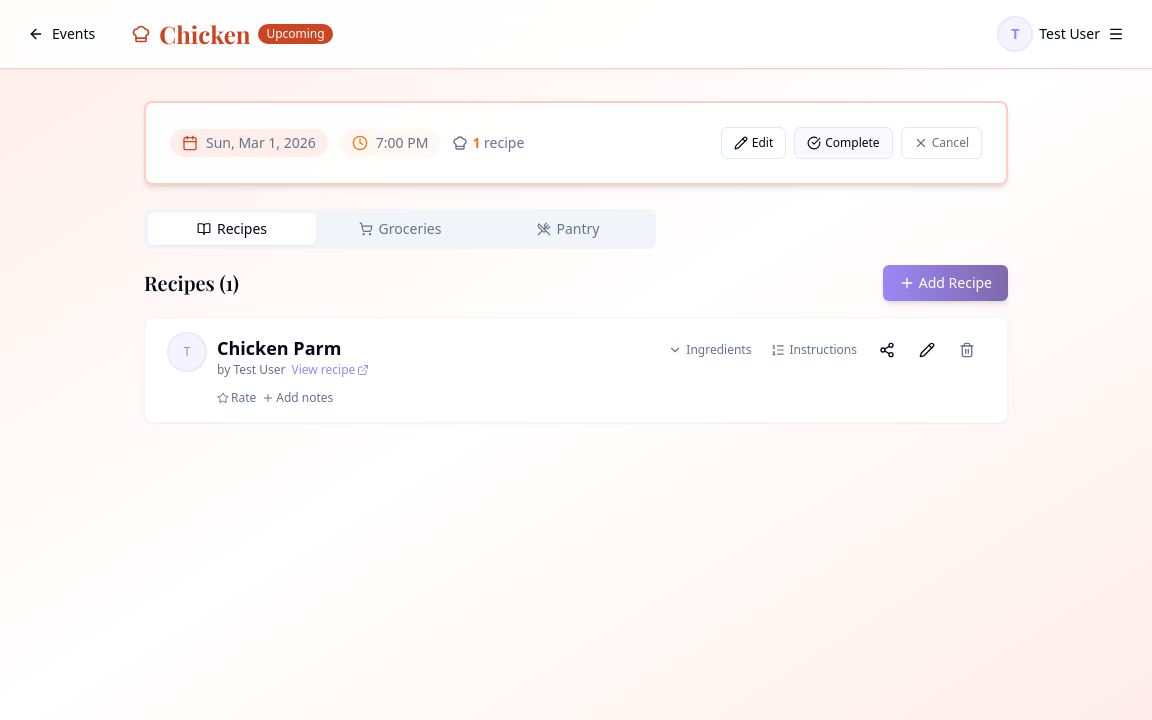
it: EventDetailPage › handles isValidUrl correctly
The width and height of the screenshot is (1152, 720).
Expected: the heading "Chicken" is shown, [159,18,250,50]
Note: Open add recipe dialog
Click the button "Add Recipe". click: (945, 283)
box: [883,265,1008,301]
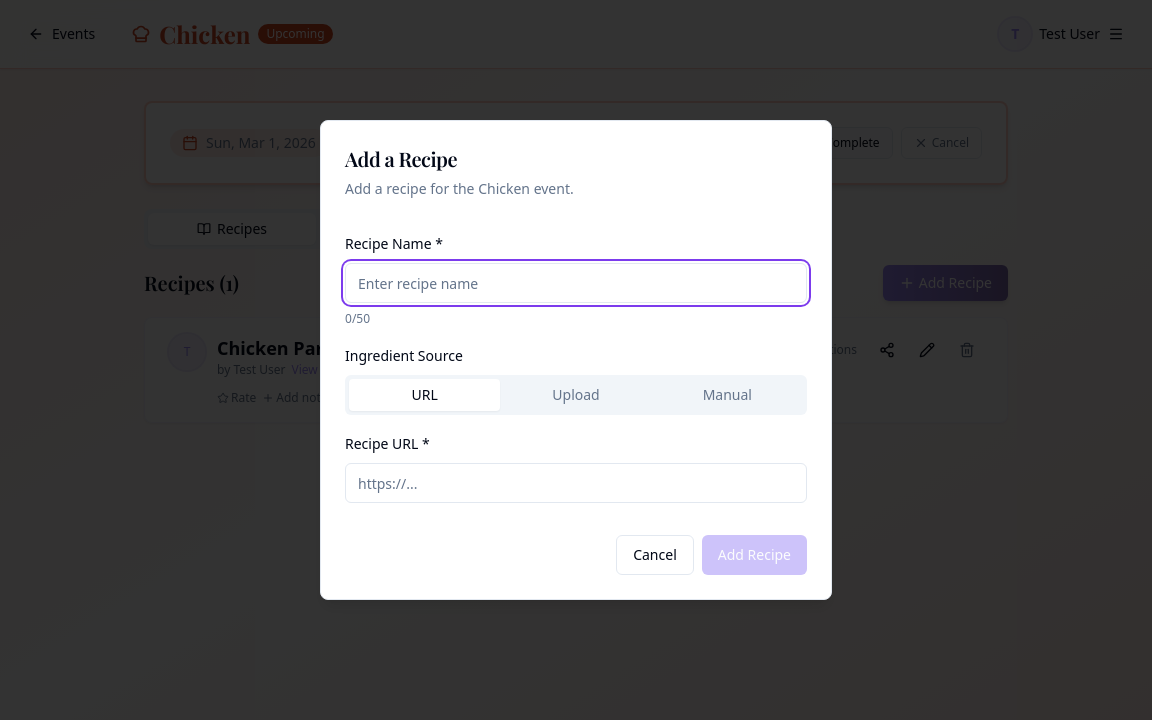
Result: the heading "Add a Recipe" is shown at [345,145,457,172]
Note: URL validation is shown for invalid URL
Type "not-a-url" into the field with placeholder "https://...". click: (576, 483)
box: [345,463,807,503]
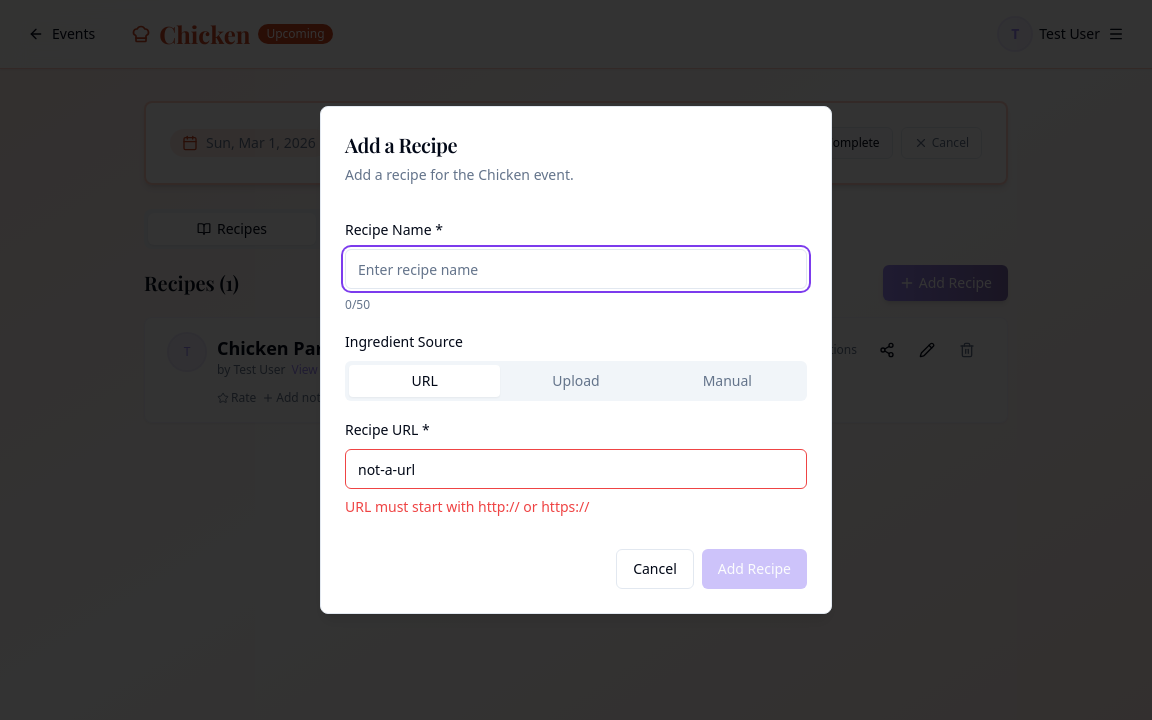
Result: the text "URL must start with http:// or https://" is shown at [345,497,589,516]
